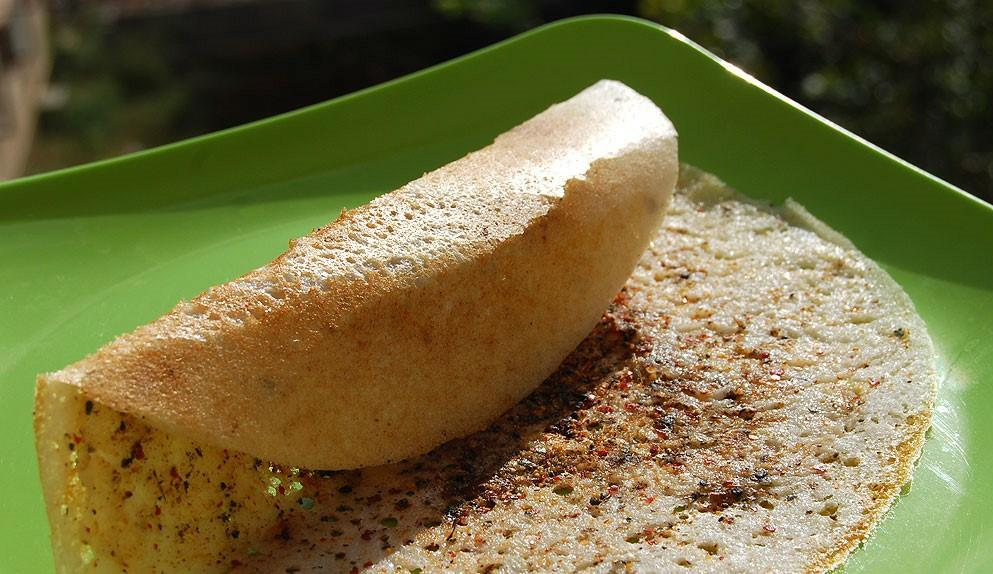Dosa: (34, 79, 937, 574)
